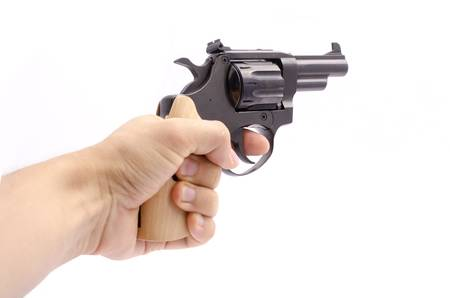Revolver: (126, 11, 384, 251)
